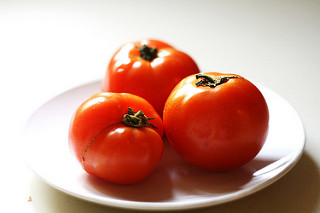tomato: (168, 70, 270, 167), (75, 94, 164, 181), (111, 32, 196, 97)
